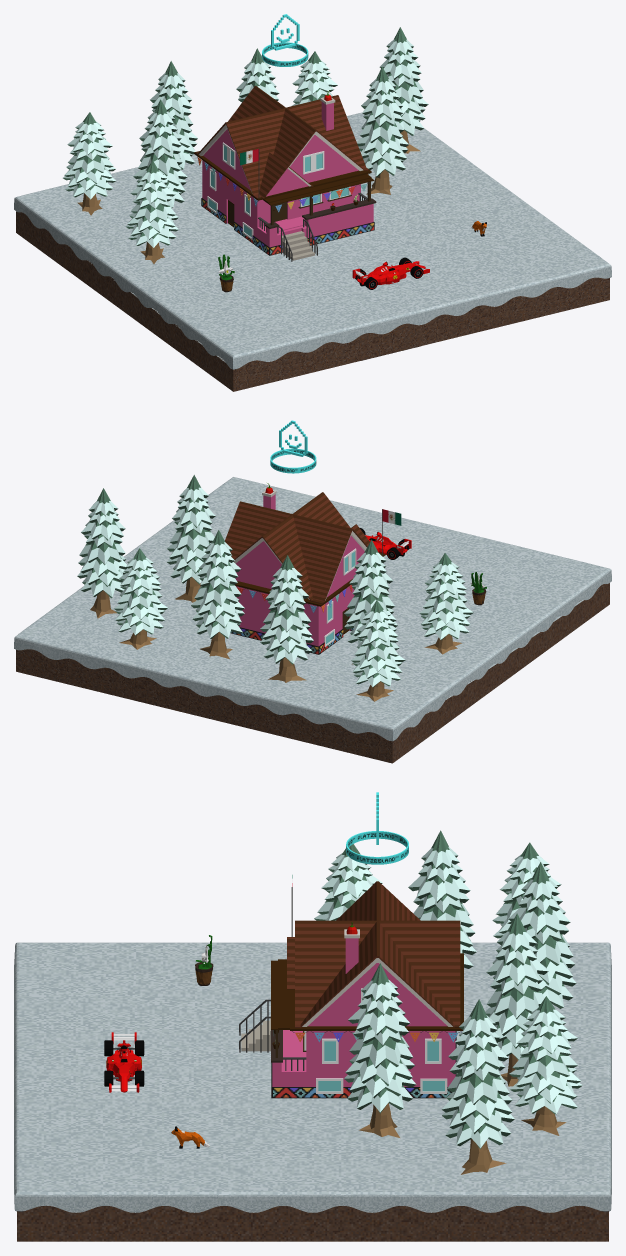
The picture shows the model from 3 angles, top to bottom: view 1: azimuth 30°, elevation 25°; view 2: azimuth 150°, elevation 25°; view 3: azimuth 270°, elevation 25°; orthographic projection. The views are drawn at different scales.
Parts seen in each view (by area): view 1: Cube.003, Cube.1005, VEHICLES_FORMULA_1, TYPE_PREMIUM; view 2: Cube.003, Cube.1005, TYPE_PREMIUM, VEHICLES_FORMULA_1; view 3: Cube.003, Cube.1005, VEHICLES_FORMULA_1, TYPE_PREMIUM.
Boxes of the visible parts, left/top/right/bottom form: Cube.003: left=14, top=27, right=611, bottom=391; Cube.1005: left=194, top=85, right=376, bottom=261; VEHICLES_FORMULA_1: left=352, top=257, right=429, bottom=289; TYPE_PREMIUM: left=262, top=14, right=308, bottom=66; Cube.003: left=14, top=475, right=611, bottom=763; Cube.1005: left=225, top=483, right=401, bottom=654; TYPE_PREMIUM: left=270, top=420, right=316, bottom=473; VEHICLES_FORMULA_1: left=360, top=528, right=411, bottom=559; Cube.003: left=14, top=830, right=611, bottom=1241; Cube.1005: left=239, top=875, right=463, bottom=1098; VEHICLES_FORMULA_1: left=104, top=1032, right=144, bottom=1092; TYPE_PREMIUM: left=346, top=792, right=408, bottom=864.
Bounding box in the file's own units: 4040 × 2467 × 4040.
Materials: 76 (6 with a texture image).
